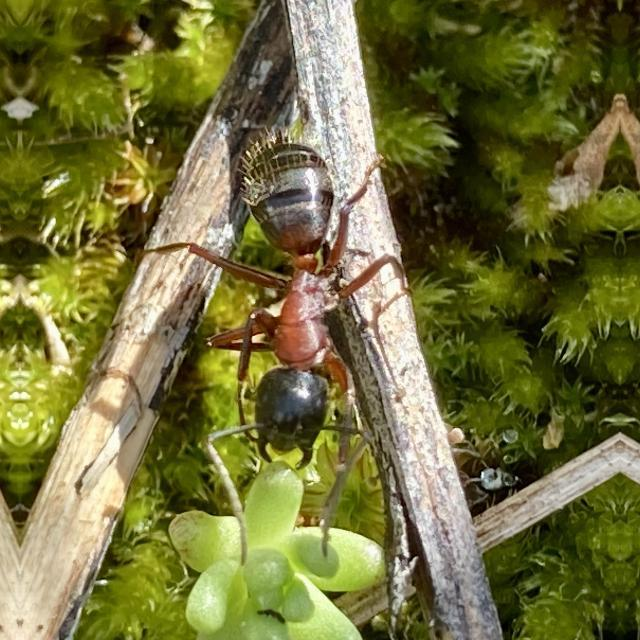Camponotus: (191, 119, 403, 478)
